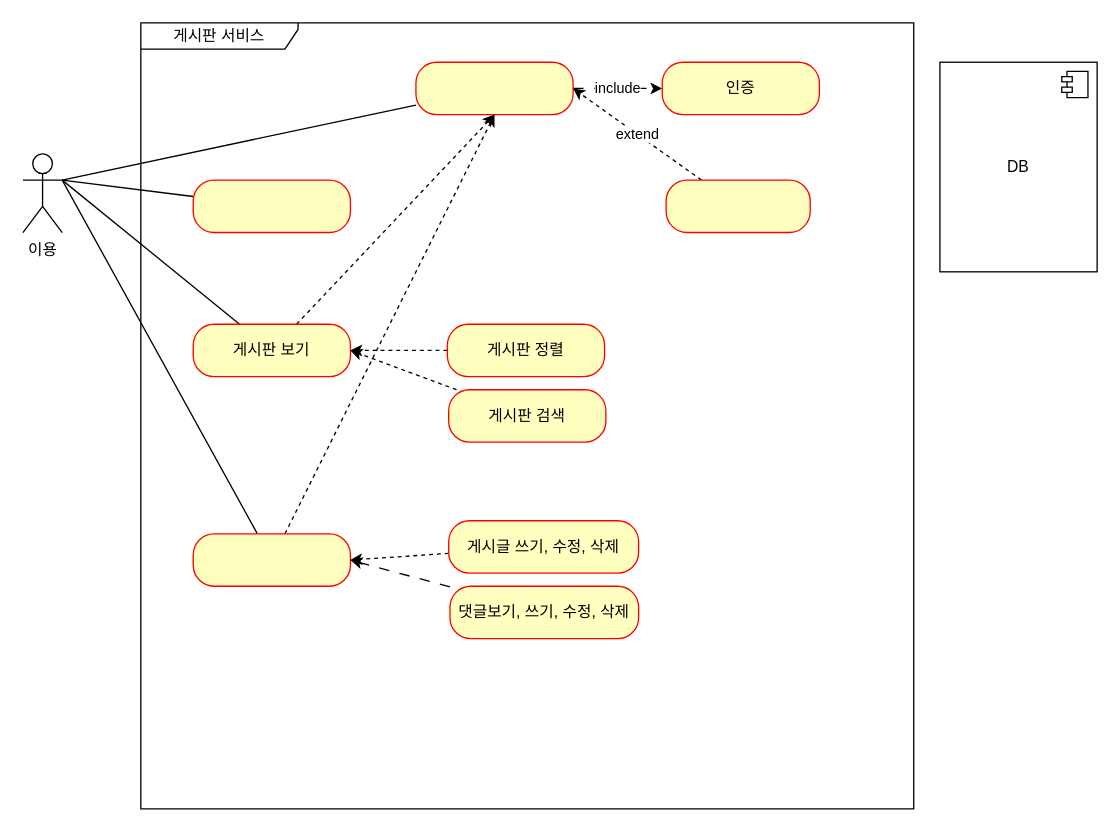
Image size: 1120x832. Some labels were removed from this diagram. The shapes that lost their labels are listed below. From the top down, each one's centre as x and y in pixels, then its label:
At [494,88]: "회원 로그인".
At [271,206]: "회원가입".
At [737,206]: "로그인 실패".
At [271,559]: "게시글 보기".
